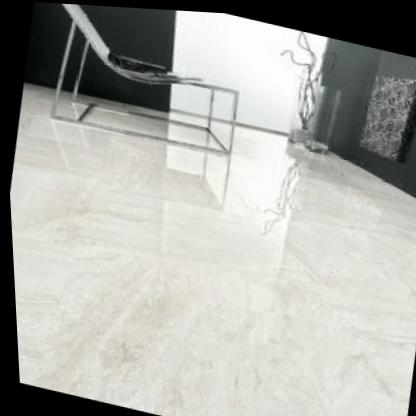Ceramic floor: (8, 82, 416, 416)
